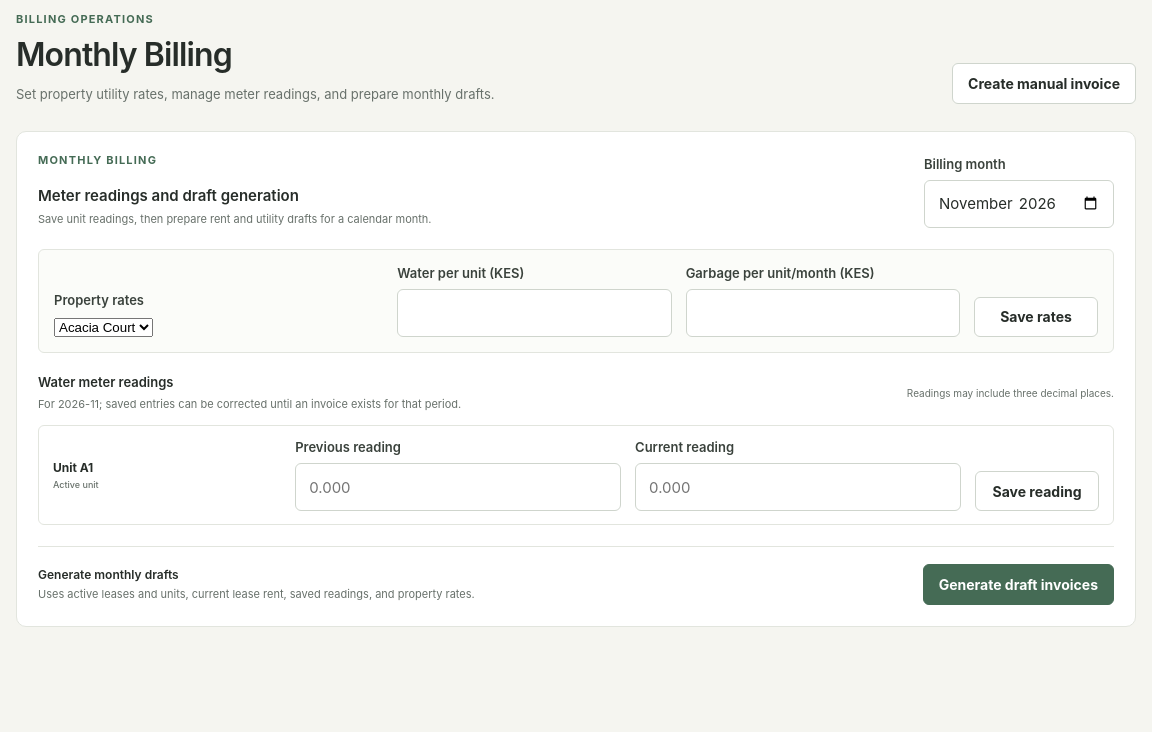
Test: MonthlyBillingPage › reports when no invoices are eligible for generation
The image size is (1152, 732).
Expected: the field labelled "Current reading" is shown, [635,463,961,511]
Click the button "Generate draft invoices" at (1018, 585), box [923,564,1114,605]
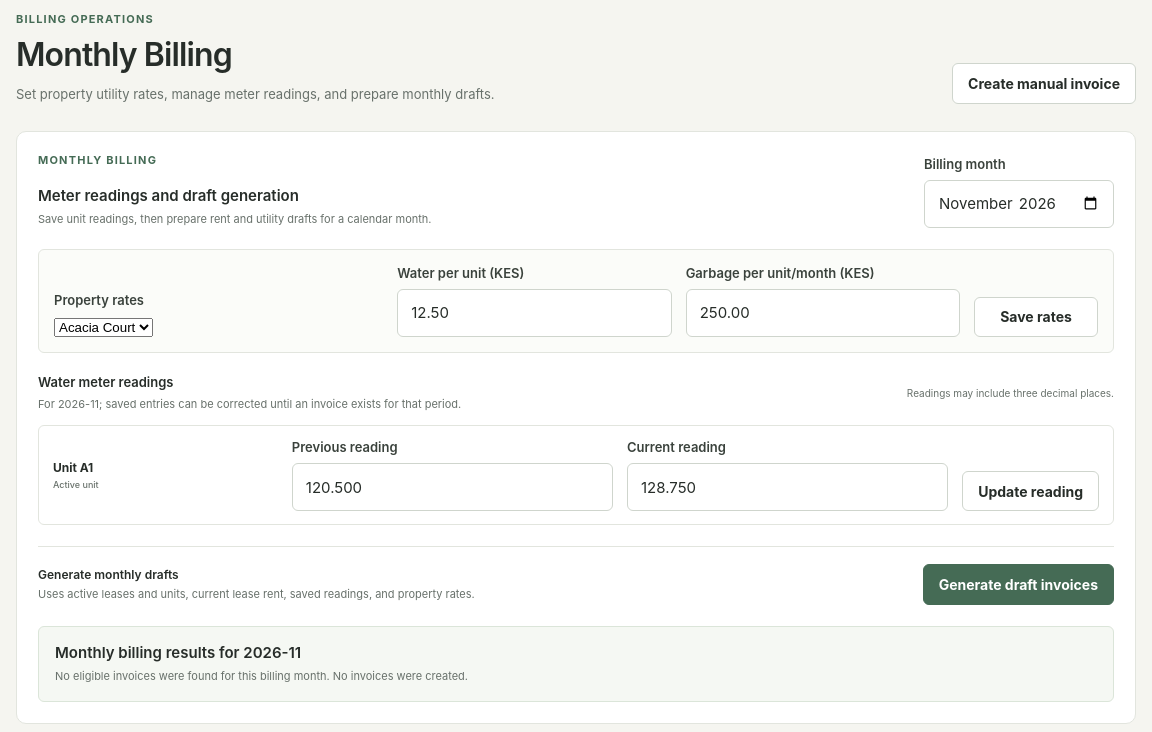
Result: the text "No eligible invoices were found for this billing month. No invoices were created." is shown at [55,669,468,683]
